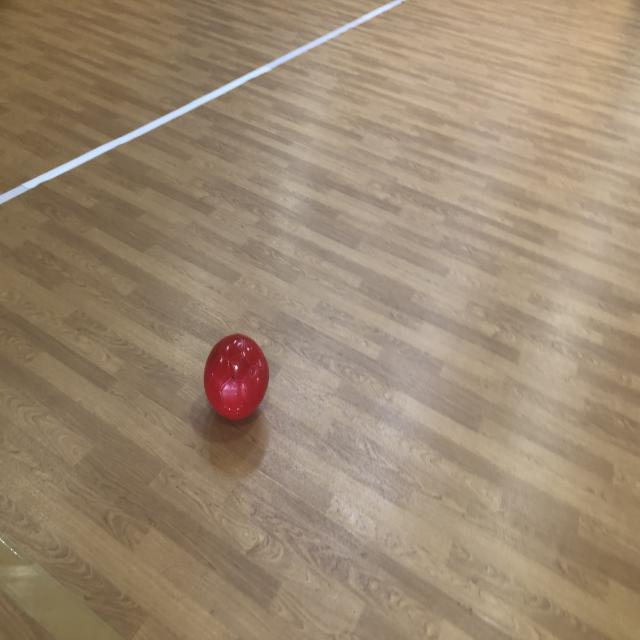red_ball: (204, 334, 268, 422)
